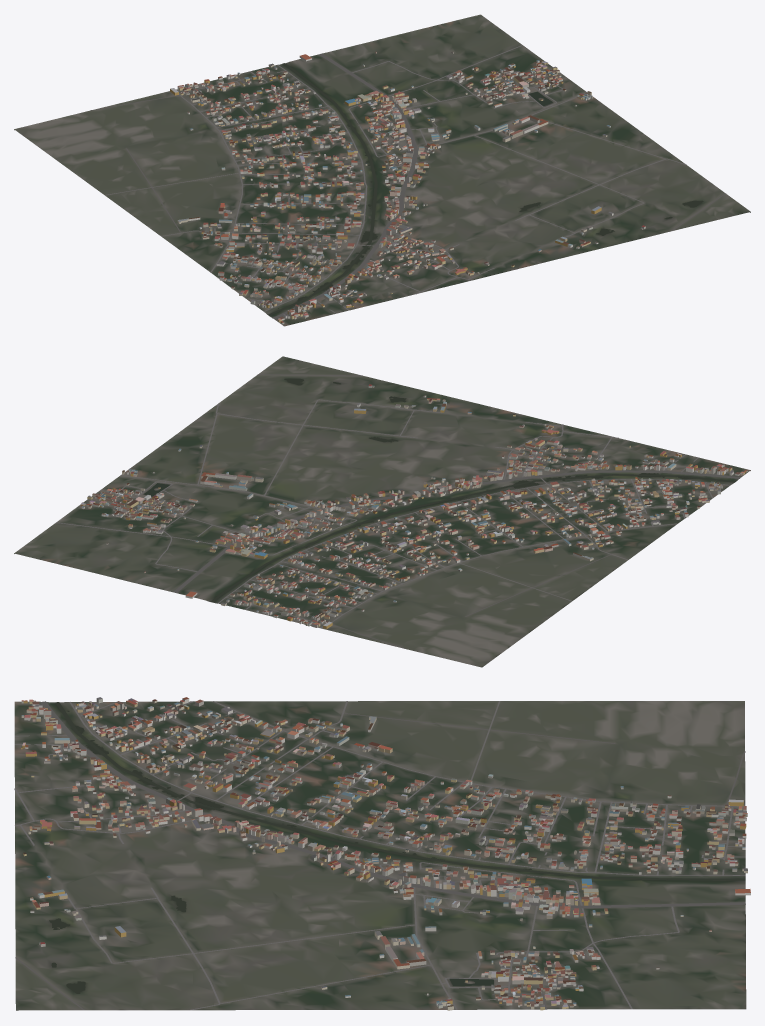
The picture shows the model from 3 angles, top to bottom: view 1: azimuth 30°, elevation 25°; view 2: azimuth 150°, elevation 25°; view 3: azimuth 270°, elevation 25°; orthographic projection. The views are drawn at different scales.
Parts seen in each view (by area): view 1: ground, buildings, roads, water; view 2: ground, buildings, roads, water; view 3: ground, buildings, roads, water.
Boxes of the visible parts, x1,y1,x2,y2 form: ground: (14,14,750,326); buildings: (170,51,645,324); roads: (90,45,725,319); water: (267,63,703,315); ground: (14,356,750,667); buildings: (80,384,747,629); roads: (56,374,740,648); water: (143,378,735,602); ground: (14,701,746,1010); buildings: (21,697,750,1010); roads: (14,701,745,1010); water: (49,702,745,993).
Size of the model in its own units: 1411 by 21.26 by 1414.
